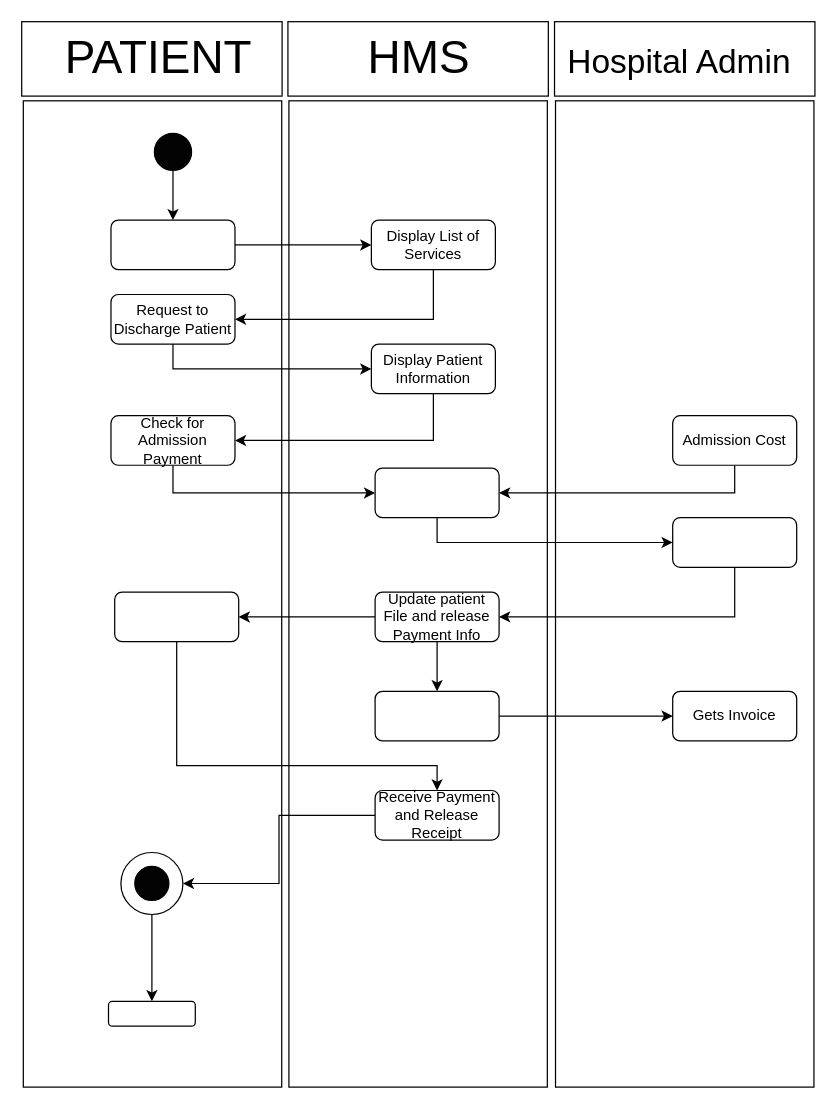
Some shapes in this 837 by 1110 pixel diagram are drawn without their labels. Here are the shapes that lost their labels. From the top down, the centre of each, then its label:
At (x=172, y=244): "Start".
At (x=436, y=492): "Calculates and displays Payment Info".
At (x=734, y=541): "Approve or Confirm the Discharge".
At (x=176, y=616): "Pays the bill".
At (x=436, y=715): "Save transaction in System Archive".
At (x=151, y=1013): "END".
